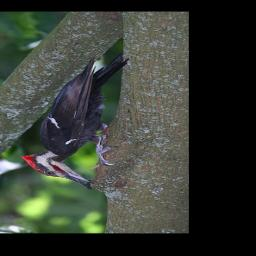Woodpecker: (20, 52, 129, 188)
